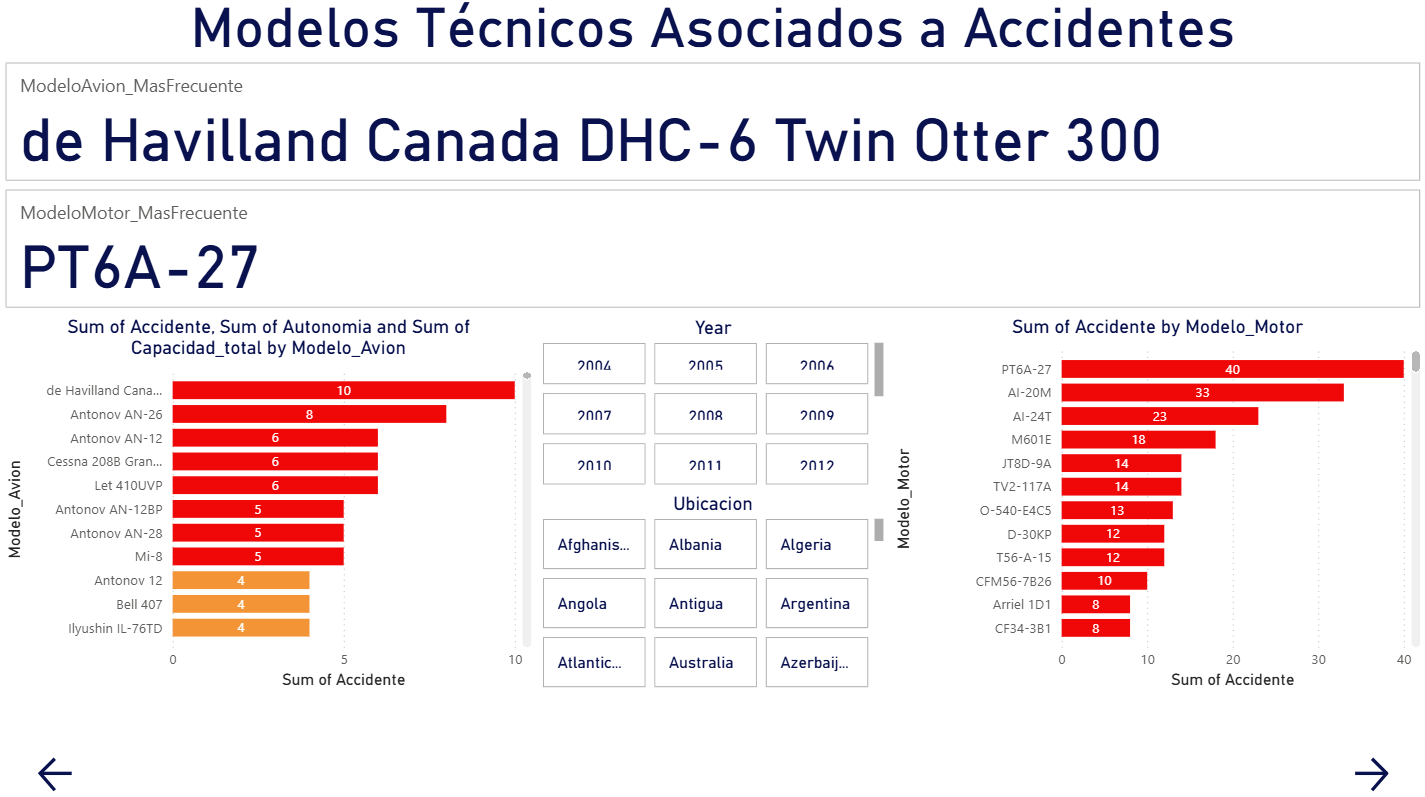

This screenshot's page, from the dashboard's own definition file:
{"tool":"powerbi","page":{"name":"Modelos Técnicos Asociados a Accidentes","canvas":[1280,720],"ordinal":4},"visuals":[{"type":"actionButton","box":[0,679.6,99.7,40.4],"z":0},{"type":"actionButton","box":[1180.5,679.6,99.7,40.4],"z":1000},{"type":"textbox","title":"Modelos Técnicos Asociados a Accidentes","box":[0,0,1280.2,55.7],"z":2000},{"type":"cardVisual","fields":{"Data":["Medidas.ModeloAvion_MasFrecuente","Medidas.ModeloMotor_MasFrecuente"]},"box":[0,55.7,1280.2,231.6],"z":3000},{"type":"clusteredBarChart","fields":{"Category":["Tabla_Avion.Modelo_Avion"],"Y":["Sum(Tabla_Accidente.Accidente)"]},"box":[0,287.3,482.1,340.2],"z":4000},{"type":"clusteredBarChart","fields":{"Category":["Tabla_Modelo_Motor.Modelo_Motor"],"Y":["Sum(Tabla_Accidente.Accidente)"]},"box":[798.1,287.3,482.1,340.2],"z":5000},{"type":"advancedSlicerVisual","fields":{"Values":["Calendario.Date.Variation.Date Hierarchy.Year"]},"box":[482.4,287.9,316.1,157.6],"z":7000},{"type":"advancedSlicerVisual","fields":{"Values":["Tabla_Accidente.Ubicacion"]},"box":[482,446,316,181],"z":8000}]}

Visuals, with their boxes in screenshot pixels (x1, y1, x2, y2), scaled from the page's 1280x720 canvas onto the 1425x797 screenshot:
actionButton: pyautogui.locateOnScreen(0, 752, 111, 796)
actionButton: pyautogui.locateOnScreen(1314, 752, 1424, 796)
"Modelos Técnicos Asociados a Accidentes" textbox: pyautogui.locateOnScreen(0, 0, 1424, 62)
cardVisual - Medidas.ModeloAvion_MasFrecuente x Medidas.ModeloMotor_MasFrecuente: pyautogui.locateOnScreen(0, 62, 1424, 318)
clusteredBarChart - Tabla_Avion.Modelo_Avion x Sum(Tabla_Accidente.Accidente): pyautogui.locateOnScreen(0, 318, 537, 695)
clusteredBarChart - Tabla_Modelo_Motor.Modelo_Motor x Sum(Tabla_Accidente.Accidente): pyautogui.locateOnScreen(889, 318, 1424, 695)
advancedSlicerVisual - Calendario.Date.Variation.Date Hierarchy.Year: pyautogui.locateOnScreen(537, 319, 889, 493)
advancedSlicerVisual - Tabla_Accidente.Ubicacion: pyautogui.locateOnScreen(537, 494, 888, 694)
